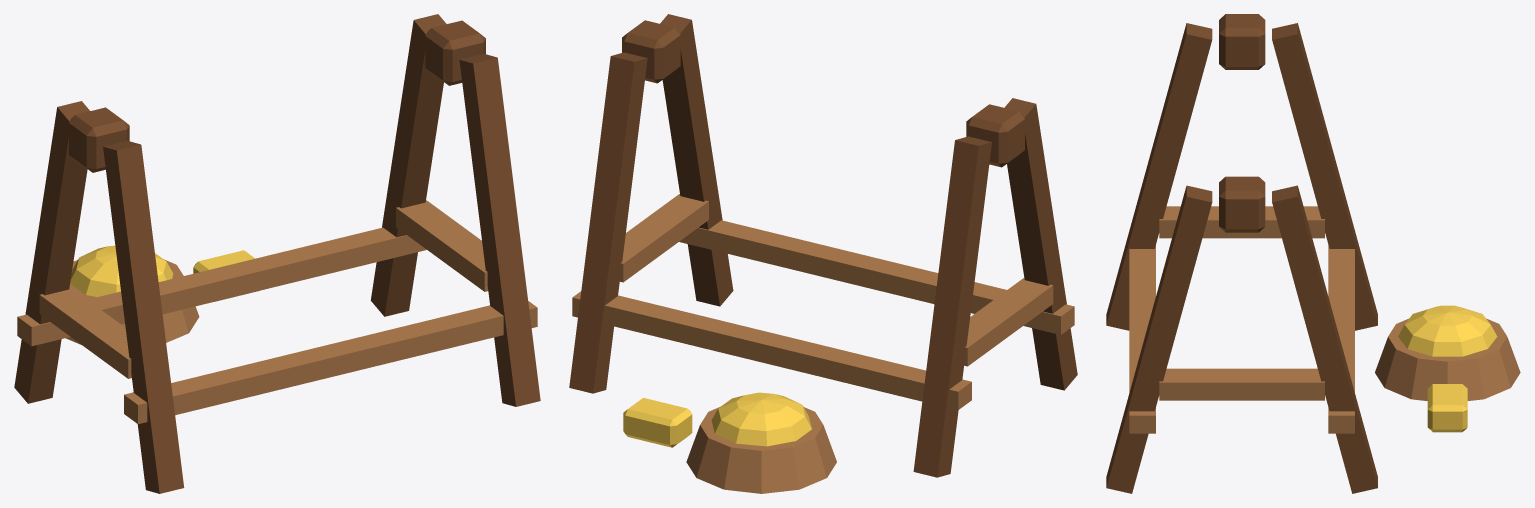
The model's file is Makine_Yayik_M.fbx.
3 views of the same model, side by side, from view 1: azimuth 30°, elevation 25°; view 2: azimuth 150°, elevation 25°; view 3: azimuth 270°, elevation 25° (orthographic). The views are drawn at different scales.
Parts seen in each view (by area): view 1: Makine_Yayik; view 2: Makine_Yayik; view 3: Makine_Yayik.
Part boxes in pixels (x1=…): Makine_Yayik: x1=14, y1=14, x2=540, y2=493; Makine_Yayik: x1=569, y1=14, x2=1077, y2=493; Makine_Yayik: x1=1106, y1=14, x2=1520, y2=493.
Bounding box in the file's own units: 130 × 101 × 125.
